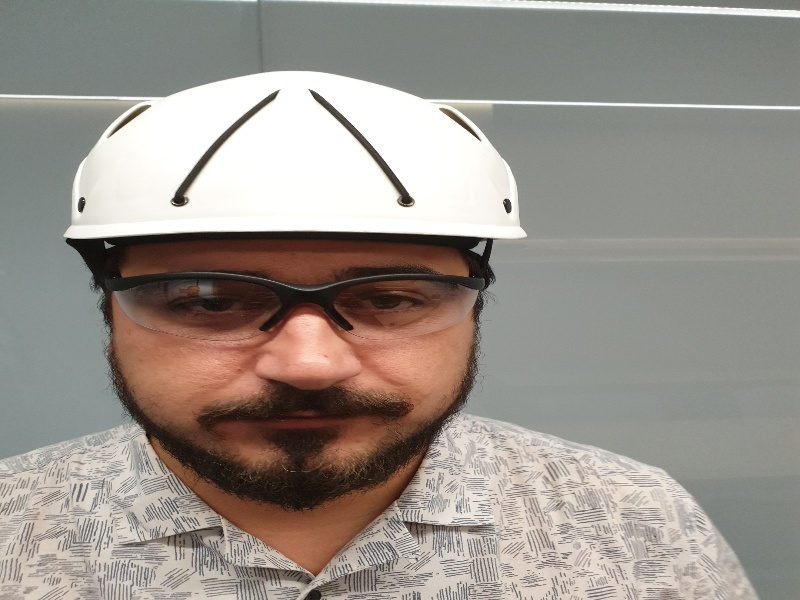Baret: (70, 74, 524, 243)
Gozluk: (106, 269, 497, 338)
